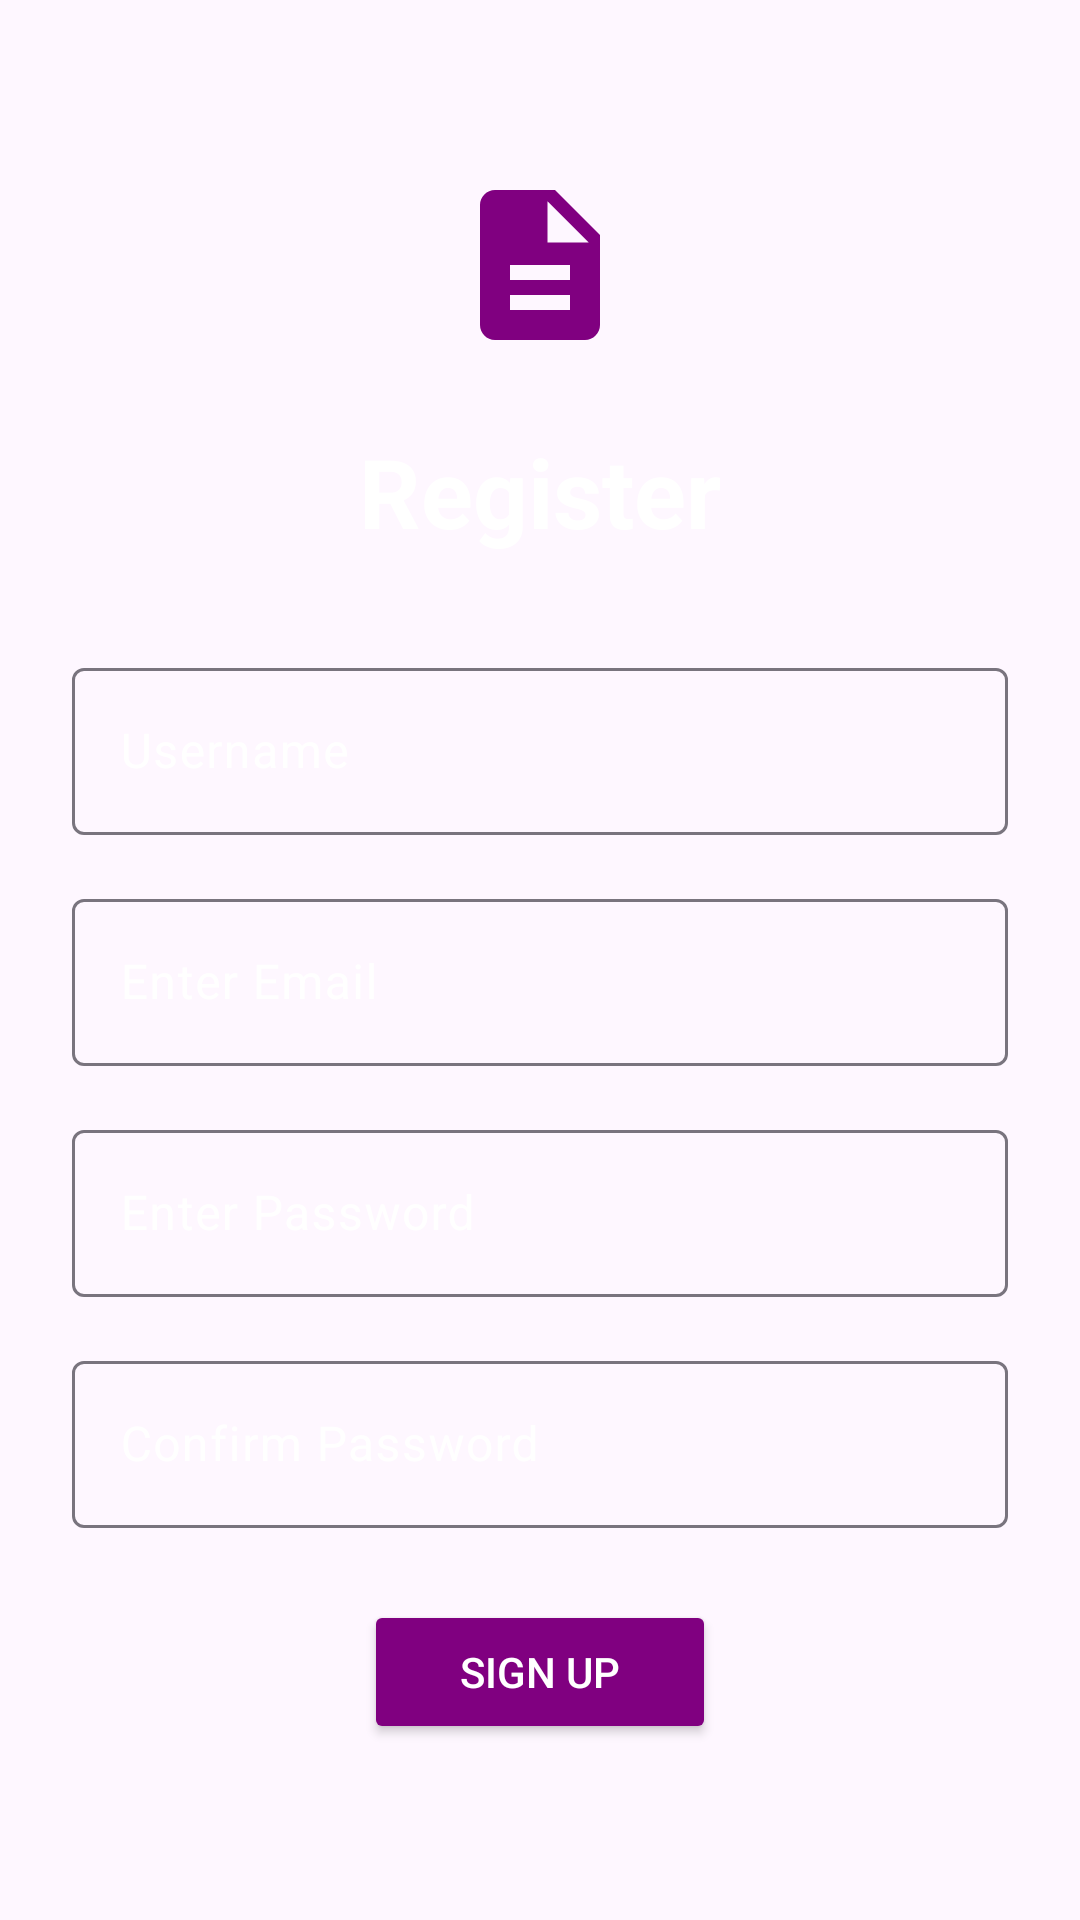

Point at icon controls on the screen. Image size 1080×1920, points as [x,y].
Notepad Icon: [540,265]
